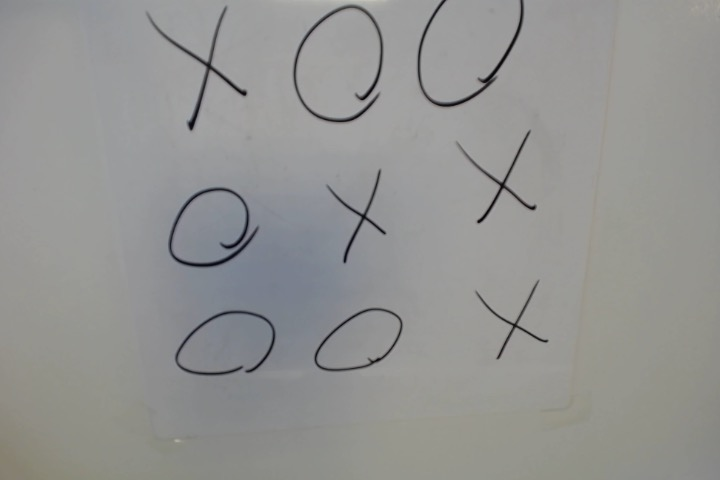0: (413, 3, 540, 114), (293, 2, 384, 128), (161, 304, 285, 384), (161, 181, 261, 273), (309, 305, 409, 371)
x: (137, 6, 254, 126), (454, 131, 540, 232), (320, 166, 394, 267), (472, 283, 551, 365)
